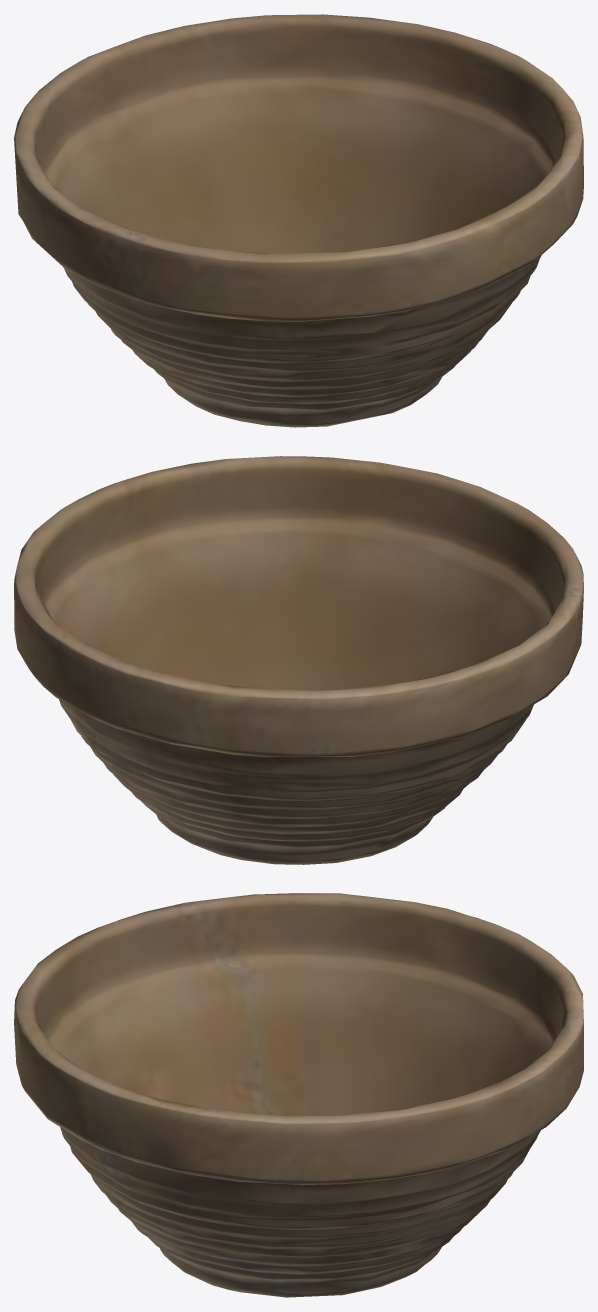
File: gso_cole_hardware_deep_bowl_good_earth_1075.glb
3 renders of one model, top to bottom at view 1: azimuth 30°, elevation 25°; view 2: azimuth 150°, elevation 25°; view 3: azimuth 270°, elevation 25°, orthographic.
Parts seen in each view (by area): view 1: z-up-to-y-up; view 2: z-up-to-y-up; view 3: z-up-to-y-up.
Part boxes in pixels (left/top/right/bottom): z-up-to-y-up: left=14, top=14, right=583, bottom=427; z-up-to-y-up: left=14, top=456, right=583, bottom=864; z-up-to-y-up: left=14, top=893, right=583, bottom=1297.
Bounding box in the file's own units: 0.2837 × 0.1317 × 0.283.
1 material, 1 textured.
